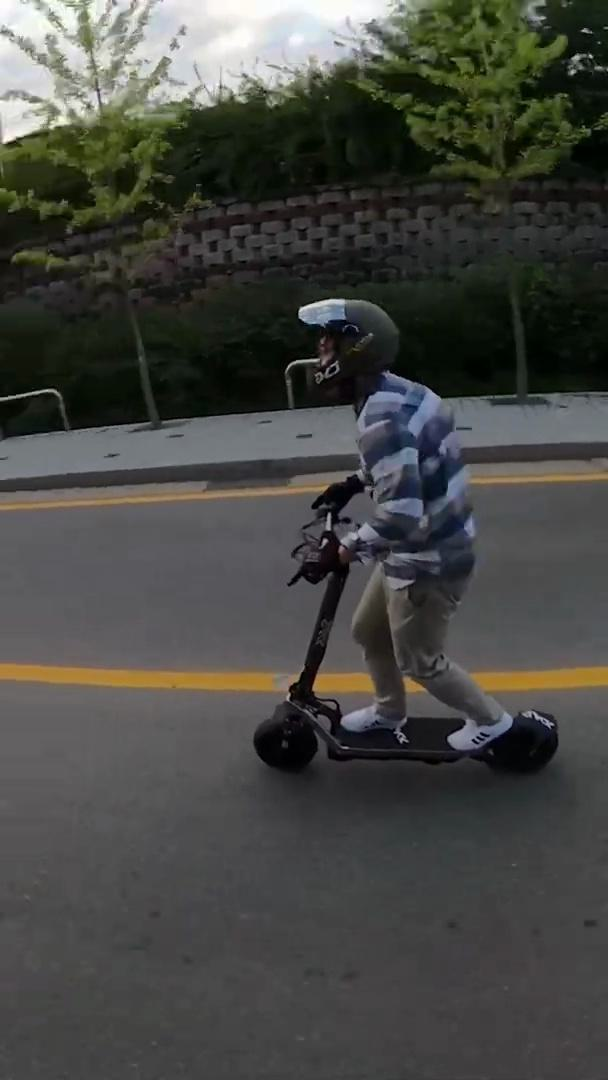helmet: (245, 293, 565, 784)
